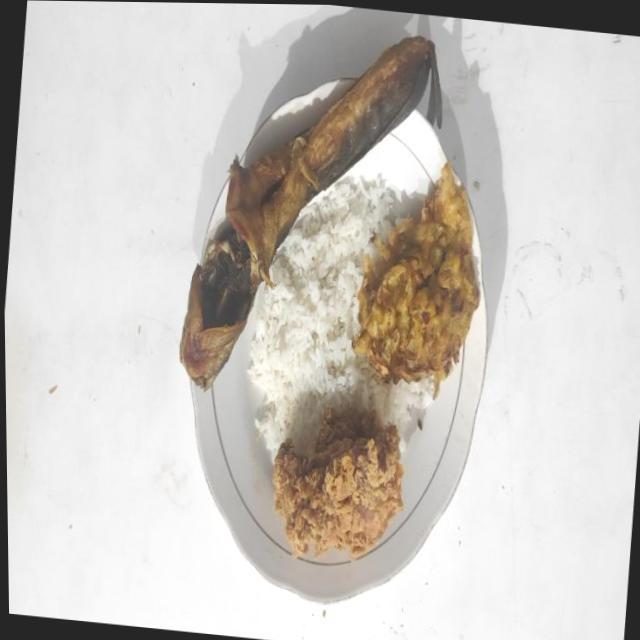nasi_putih: (247, 174, 434, 463)
